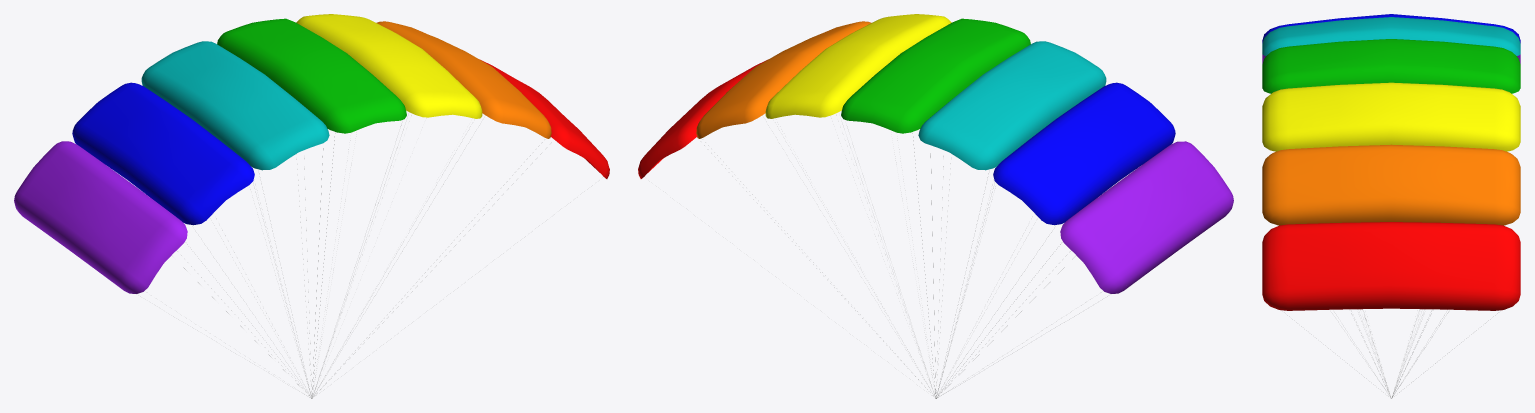
Rendered from parachute_rainbow.glb.
3 views of the same model, side by side, from view 1: azimuth 30°, elevation 25°; view 2: azimuth 150°, elevation 25°; view 3: azimuth 270°, elevation 25° (orthographic).
Visible parts, largest first — view 1: Roundcube7_34, Roundcube5_32, Roundcube3_30, Roundcube1_28, Roundcube2_29, Roundcube4_31, Roundcube6_33; view 2: Roundcube7_34, Roundcube5_32, Roundcube3_30, Roundcube1_28, Roundcube2_29, Roundcube4_31, Roundcube6_33; view 3: Roundcube6_33, Roundcube4_31, Roundcube2_29, Roundcube1_28, Roundcube3_30, Roundcube5_32.
Boxes of the visible parts, x1,y1,x2,y2 form: Roundcube7_34: (14, 141, 187, 293); Roundcube5_32: (72, 82, 254, 225); Roundcube3_30: (141, 41, 329, 170); Roundcube1_28: (217, 18, 406, 133); Roundcube2_29: (296, 14, 482, 118); Roundcube4_31: (376, 21, 551, 138); Roundcube6_33: (480, 59, 609, 178); Roundcube7_34: (1060, 141, 1233, 293); Roundcube5_32: (993, 82, 1175, 225); Roundcube3_30: (918, 41, 1106, 170); Roundcube1_28: (841, 18, 1030, 133); Roundcube2_29: (765, 14, 951, 118); Roundcube4_31: (696, 21, 871, 138); Roundcube6_33: (638, 59, 767, 178); Roundcube6_33: (1262, 222, 1520, 310); Roundcube4_31: (1262, 144, 1520, 225); Roundcube2_29: (1262, 82, 1520, 151); Roundcube1_28: (1262, 39, 1520, 93); Roundcube3_30: (1262, 17, 1520, 55); Roundcube5_32: (1262, 14, 1520, 43).
Bounding box in the file's own units: 10.06 × 6.72 × 4.5.
